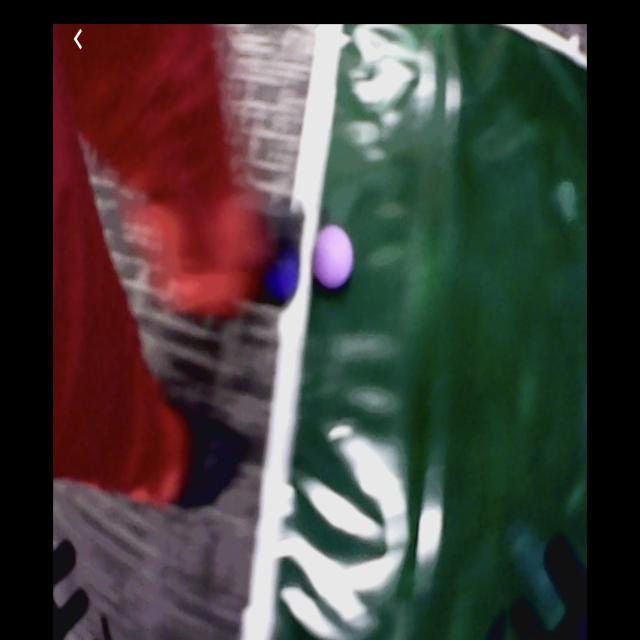ball: (314, 227, 354, 292), (267, 251, 299, 306)
